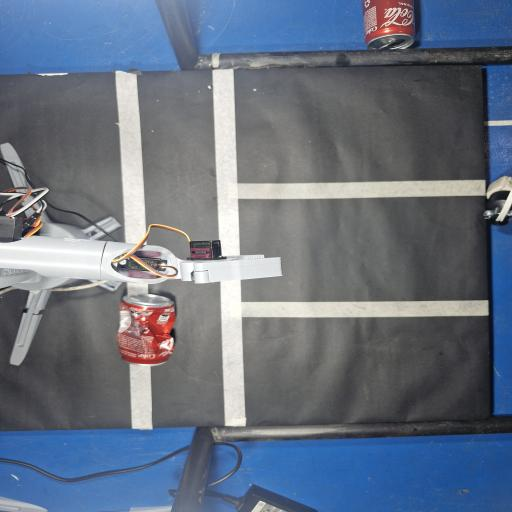lata_defectuoso: (117, 293, 175, 366)
